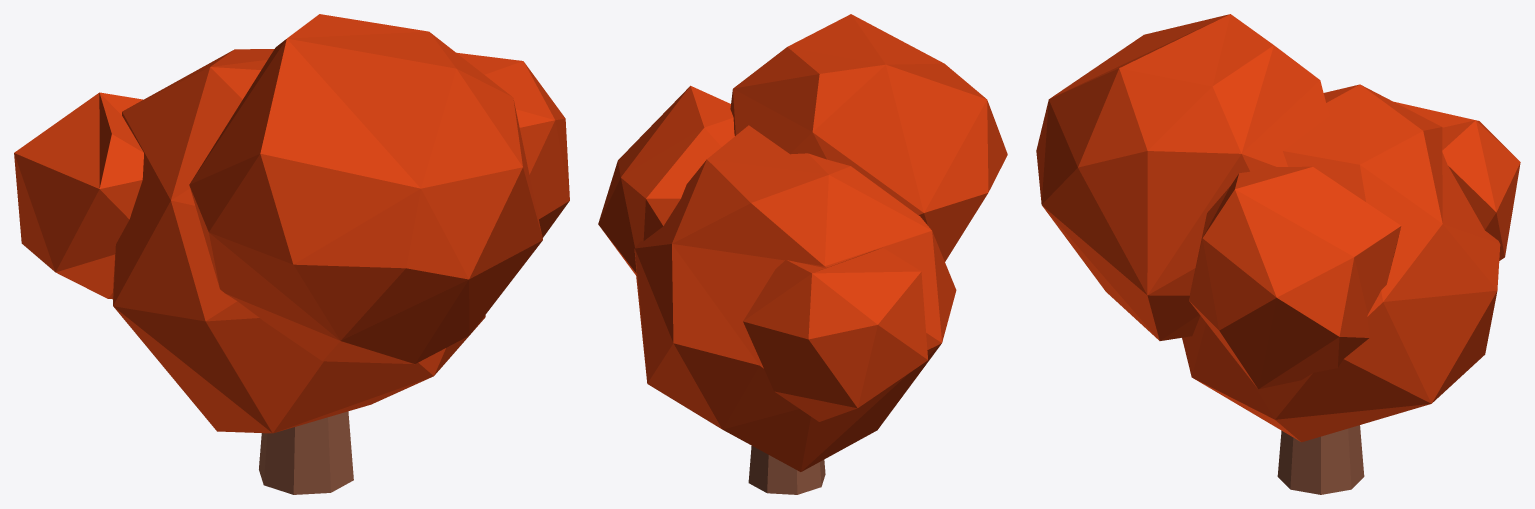
File: Bush_5_summer_red.fbx
3 views of the same model, side by side, from view 1: azimuth 30°, elevation 25°; view 2: azimuth 150°, elevation 25°; view 3: azimuth 270°, elevation 25° (orthographic). The views are drawn at different scales.
Visible parts, largest first — view 1: Bush_5_summer_red; view 2: Bush_5_summer_red; view 3: Bush_5_summer_red.
Boxes of the visible parts, x1=… form: Bush_5_summer_red: x1=14, y1=14, x2=569, y2=494; Bush_5_summer_red: x1=598, y1=14, x2=1007, y2=494; Bush_5_summer_red: x1=1036, y1=14, x2=1520, y2=494.
Bounding box in the file's own units: 31.34 × 32.92 × 33.43.
